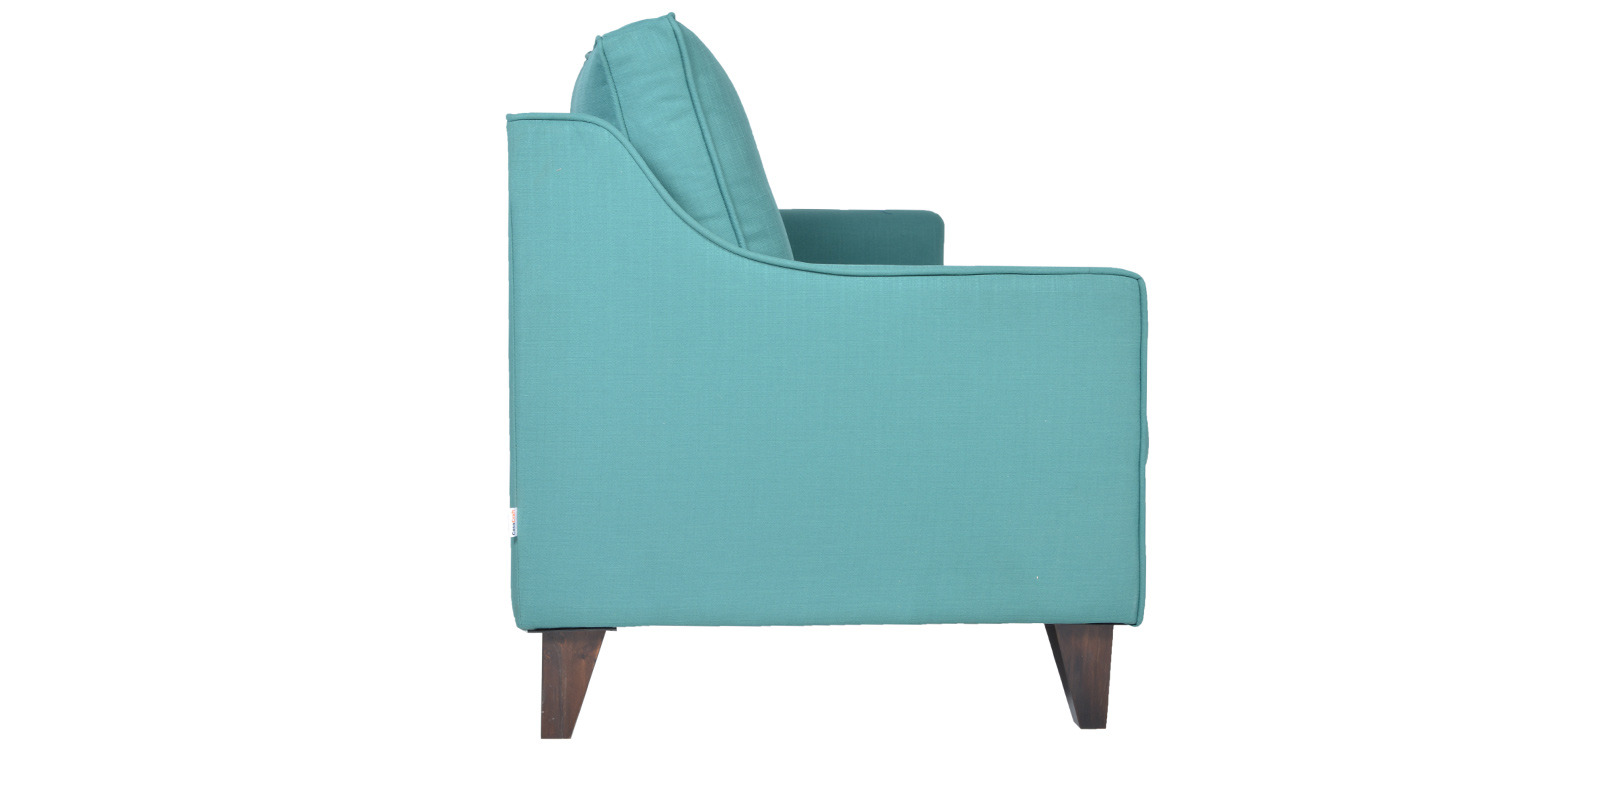Ithaca Impulse Three Seater Sofa with Throw Cushions in Jade Colour by Urban Liv: (468, 5, 1192, 753)
